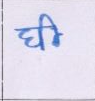i_matra: (42, 13, 62, 46)
